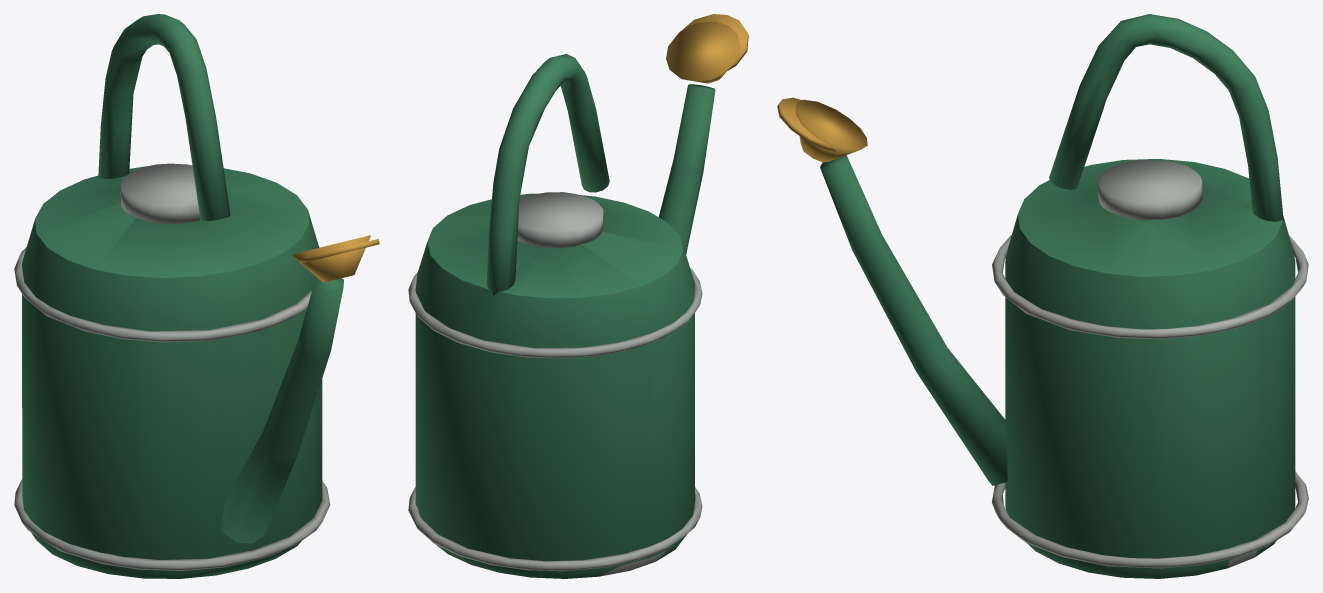
The model's file is canopy_watering_can_lod1.glb.
The picture shows the model from 3 angles, left to right: view 1: azimuth 30°, elevation 25°; view 2: azimuth 150°, elevation 25°; view 3: azimuth 270°, elevation 25°; orthographic projection. The views are drawn at different scales.
Parts seen in each view (by area): view 1: canopy_watering_can.001; view 2: canopy_watering_can.001; view 3: canopy_watering_can.001.
Boxes of the visible parts, x1,y1,x2,y2 form: canopy_watering_can.001: (14, 14, 379, 578); canopy_watering_can.001: (408, 14, 748, 578); canopy_watering_can.001: (777, 14, 1308, 578).
Size of the model in its own units: 14.54 by 25.44 by 24.39.
